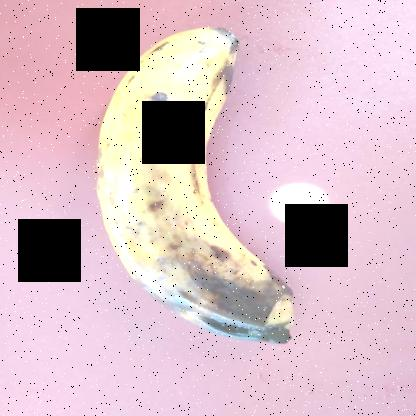rotten: (73, 12, 346, 355)
